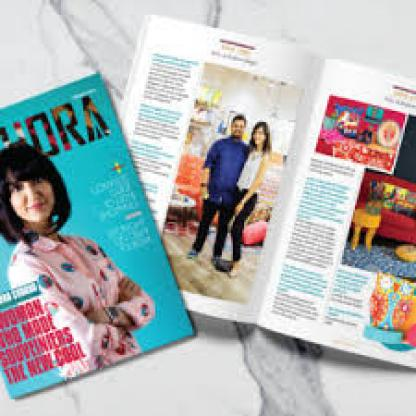Paper: (7, 9, 416, 416)
